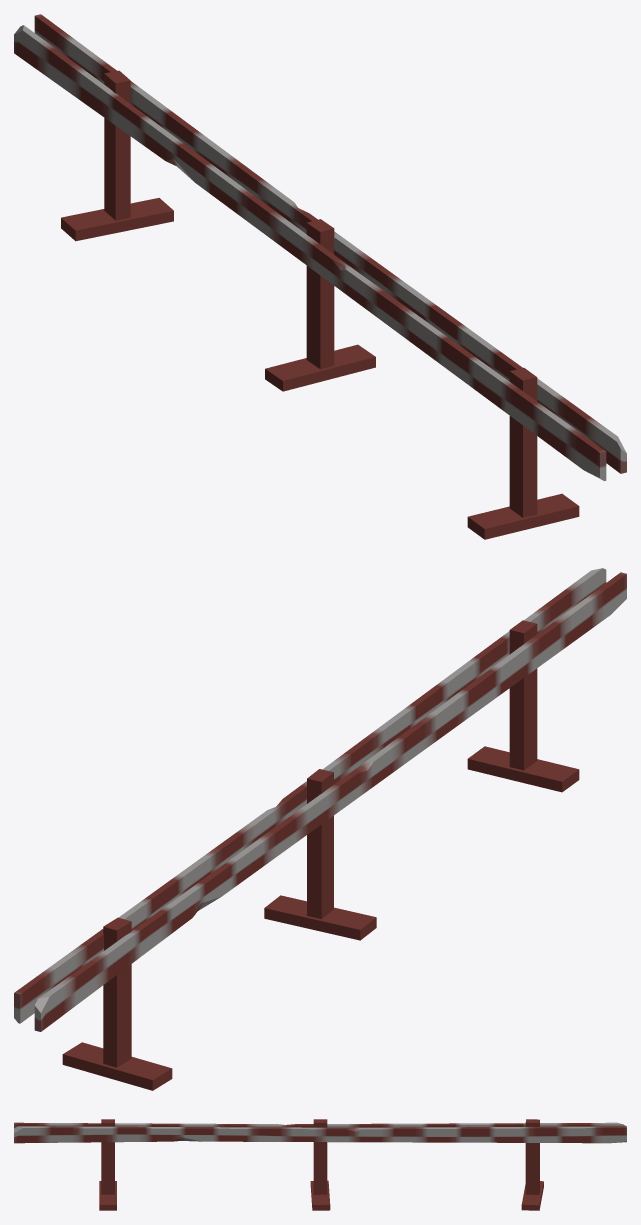
The model's file is SM_Prop_Runway_Barrier_01.fbx.
The picture shows the model from 3 angles, top to bottom: view 1: azimuth 30°, elevation 25°; view 2: azimuth 150°, elevation 25°; view 3: azimuth 270°, elevation 25°; orthographic projection. The views are drawn at different scales.
Parts seen in each view (by area): view 1: SM_Prop_Runway_Barrier_01; view 2: SM_Prop_Runway_Barrier_01; view 3: SM_Prop_Runway_Barrier_01.
Part boxes in pixels (bbox=[...]): SM_Prop_Runway_Barrier_01: bbox=[14, 14, 626, 539]; SM_Prop_Runway_Barrier_01: bbox=[14, 568, 626, 1090]; SM_Prop_Runway_Barrier_01: bbox=[14, 1119, 626, 1210].
Size of the model in its own units: 102 by 150 by 1075.
